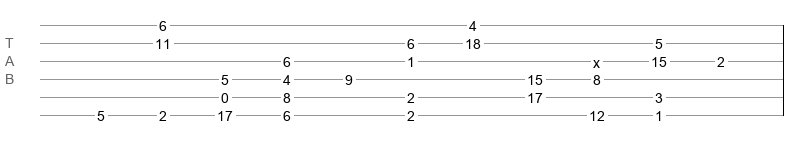0: (221, 90, 229, 100)
1: (407, 54, 415, 64), (655, 108, 663, 118)
11: (155, 36, 171, 46)
12: (589, 108, 605, 118)
15: (527, 72, 543, 82), (651, 54, 667, 64)
17: (217, 108, 233, 118), (527, 90, 543, 100)
18: (465, 36, 481, 46)
2: (159, 108, 167, 118), (407, 108, 415, 118), (407, 90, 415, 100), (717, 54, 725, 64)
3: (655, 90, 663, 100)
4: (283, 72, 291, 82), (469, 18, 477, 28)
5: (97, 108, 105, 118), (221, 72, 229, 82), (655, 36, 663, 46)
6: (159, 18, 167, 28), (283, 54, 291, 64), (283, 108, 291, 118), (407, 36, 415, 46)
8: (283, 90, 291, 100), (593, 72, 601, 82)
9: (345, 72, 353, 82)
x: (593, 55, 600, 63)
